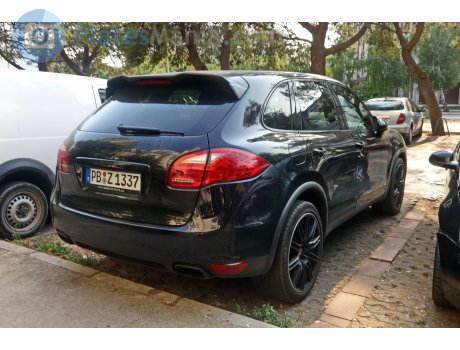License Plates: (90, 169, 139, 187)
